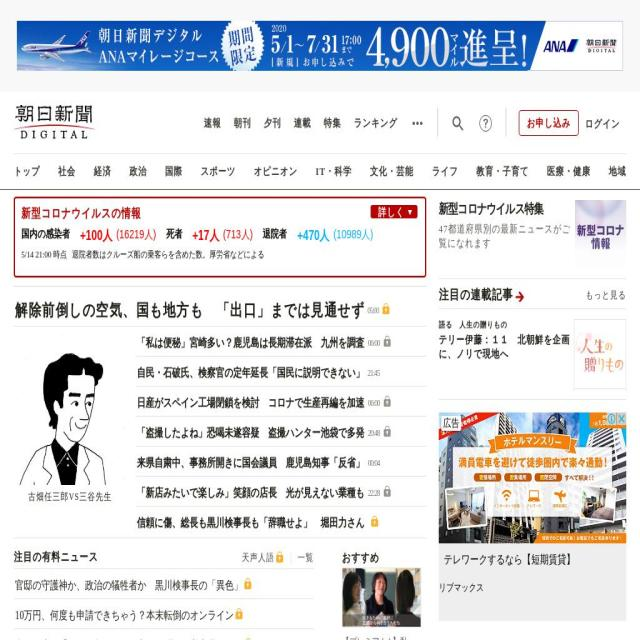button: (14, 335, 126, 510), (14, 286, 426, 326), (136, 507, 426, 538), (136, 326, 426, 356), (136, 356, 426, 386), (136, 386, 426, 416), (136, 416, 426, 446), (136, 446, 426, 476), (136, 476, 426, 506), (14, 570, 314, 598), (14, 600, 314, 628), (341, 567, 421, 640), (21, 206, 419, 220), (438, 333, 574, 362), (574, 319, 626, 389), (575, 200, 626, 268), (14, 629, 314, 640), (14, 105, 95, 139), (476, 154, 528, 189), (519, 109, 579, 136), (369, 154, 414, 189), (546, 154, 591, 189), (254, 154, 298, 189), (438, 319, 574, 330), (316, 154, 352, 189), (201, 154, 236, 189), (431, 154, 458, 189), (14, 154, 40, 189), (585, 111, 620, 136), (353, 115, 398, 131), (371, 204, 418, 218), (58, 154, 76, 189), (94, 154, 112, 189), (130, 154, 148, 189), (165, 154, 183, 189), (608, 154, 626, 189), (242, 552, 284, 564), (586, 290, 626, 301), (450, 114, 466, 134), (290, 552, 314, 564), (204, 115, 221, 131), (234, 115, 251, 131), (264, 115, 281, 131), (294, 115, 311, 131), (324, 115, 341, 131)
heading: (14, 105, 95, 139), (439, 288, 524, 302)
iframe: (439, 412, 626, 621), (17, 21, 623, 71)
image: (15, 335, 126, 485), (342, 568, 420, 626), (574, 320, 626, 388), (575, 200, 626, 268), (244, 578, 252, 590), (236, 608, 243, 620), (383, 336, 391, 346), (383, 396, 391, 406), (383, 426, 391, 436), (383, 486, 391, 496), (371, 516, 379, 526), (382, 304, 389, 314), (276, 552, 283, 562), (244, 638, 252, 640)
link: (438, 223, 570, 249), (21, 206, 141, 220), (439, 202, 543, 216), (371, 205, 412, 218)
text: (15, 301, 364, 319), (15, 578, 243, 592), (72, 246, 264, 262), (15, 608, 234, 622), (137, 336, 364, 349), (137, 366, 364, 379), (137, 396, 364, 409), (137, 426, 364, 439), (137, 456, 364, 469), (137, 486, 364, 499), (137, 516, 364, 529), (14, 548, 98, 568), (14, 490, 126, 503), (21, 246, 72, 262), (21, 226, 70, 242), (329, 226, 374, 242), (112, 226, 156, 242), (476, 165, 528, 177), (252, 226, 288, 242), (219, 226, 253, 242), (369, 165, 414, 177), (546, 165, 591, 177), (75, 228, 113, 242), (292, 228, 330, 242), (254, 165, 298, 177), (342, 551, 379, 564), (15, 638, 243, 640), (187, 228, 219, 242), (316, 165, 352, 177), (201, 165, 236, 177), (156, 226, 182, 242), (342, 635, 421, 640), (242, 552, 274, 563), (431, 165, 458, 177), (14, 165, 40, 177), (410, 114, 425, 134), (478, 114, 493, 134), (58, 165, 76, 177), (94, 165, 112, 177), (130, 165, 148, 177), (165, 165, 183, 177), (608, 165, 626, 177), (234, 117, 251, 129), (264, 117, 281, 129), (366, 337, 382, 349), (366, 367, 382, 379), (366, 397, 382, 409), (366, 427, 382, 439), (366, 457, 382, 469), (366, 487, 382, 499), (366, 305, 380, 317)
